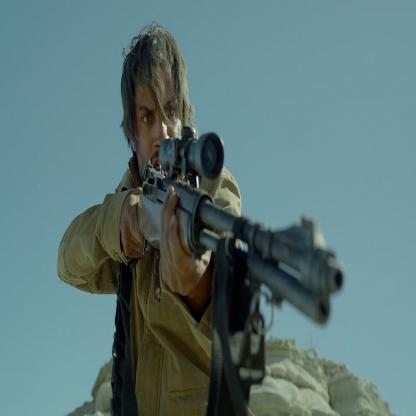gun: (117, 109, 350, 362)
